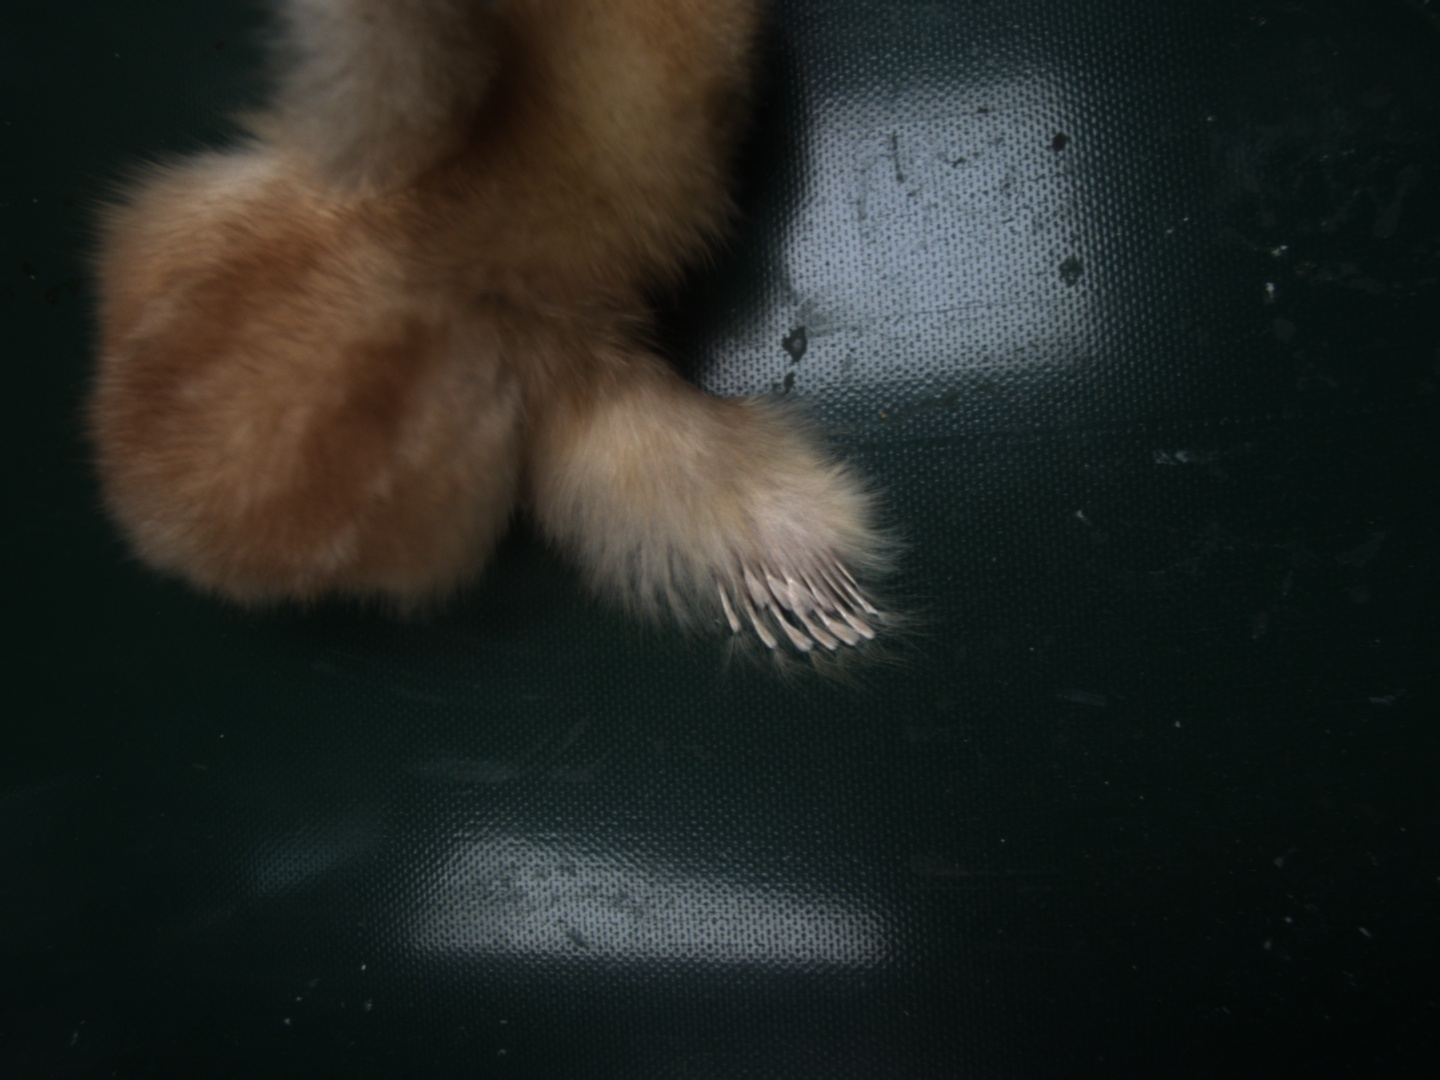female: (708, 539, 884, 661)
